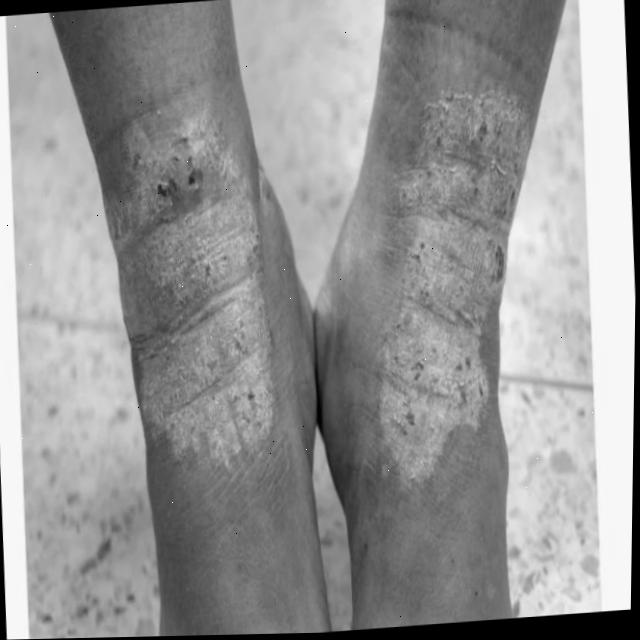Eczema: (358, 46, 541, 411), (111, 115, 254, 446)
